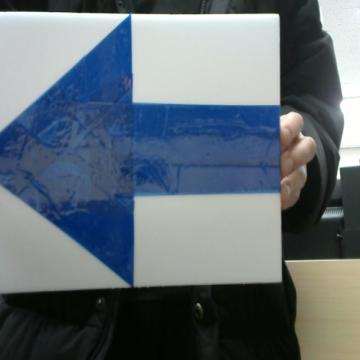blue_left: (0, 16, 279, 285)
